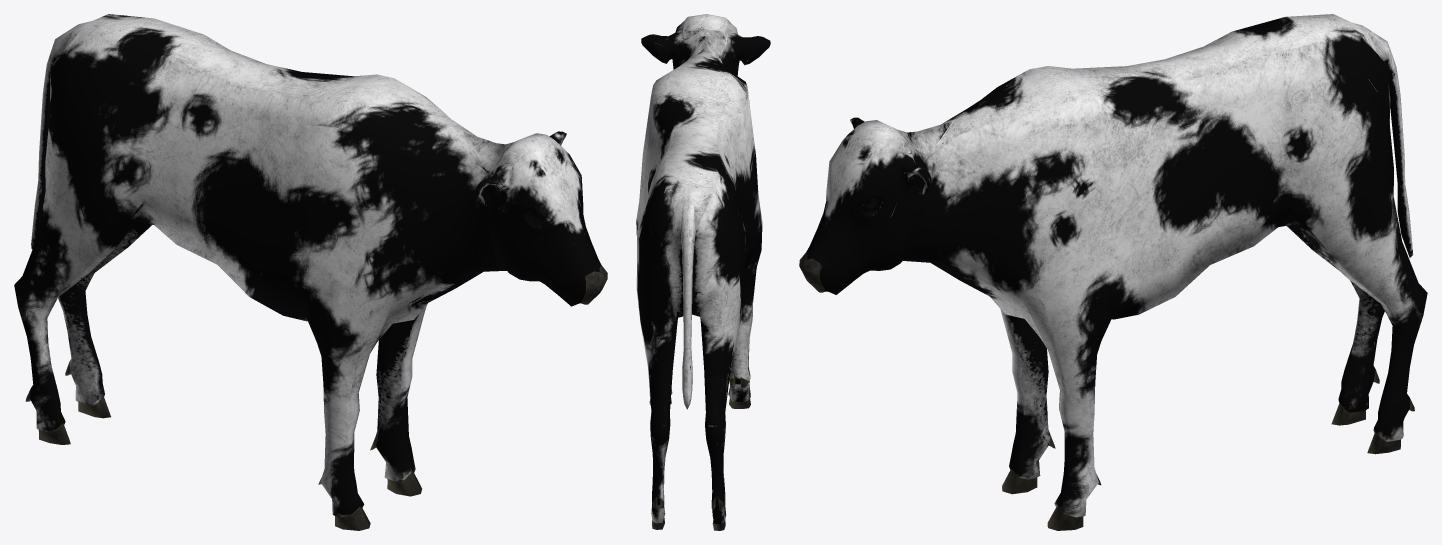
The model's file is cow4.gltf.
The picture shows the model from 3 angles, left to right: view 1: azimuth 30°, elevation 25°; view 2: azimuth 150°, elevation 25°; view 3: azimuth 270°, elevation 25°; orthographic projection. The views are drawn at different scales.
Parts seen in each view (by area): view 1: cow.002; view 2: cow.002; view 3: cow.002.
Boxes of the visible parts, bbox=[...] form: cow.002: bbox=[14, 14, 607, 530]; cow.002: bbox=[636, 14, 770, 530]; cow.002: bbox=[799, 14, 1427, 530].
Size of the model in its own units: 3.83 by 4.7 by 6.29.
Materials: 4 (4 with a texture image).
